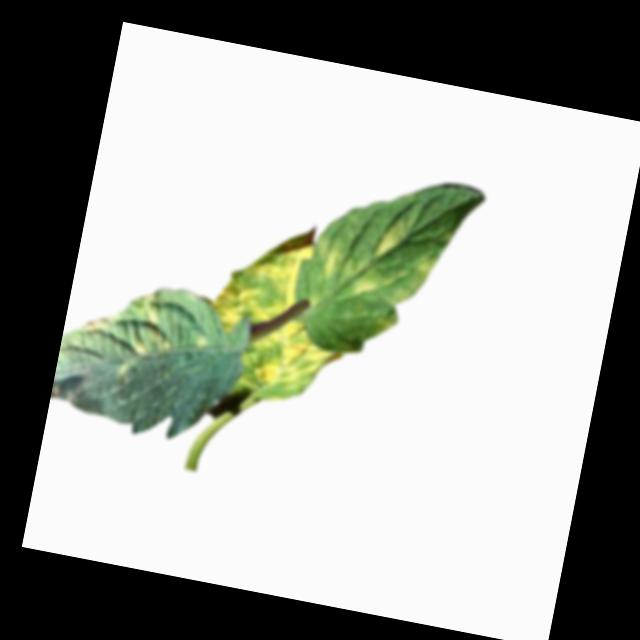Leaf_Mold: (208, 211, 319, 348), (229, 311, 345, 412), (74, 279, 183, 385), (307, 237, 395, 302), (371, 214, 408, 262), (404, 248, 440, 280)
